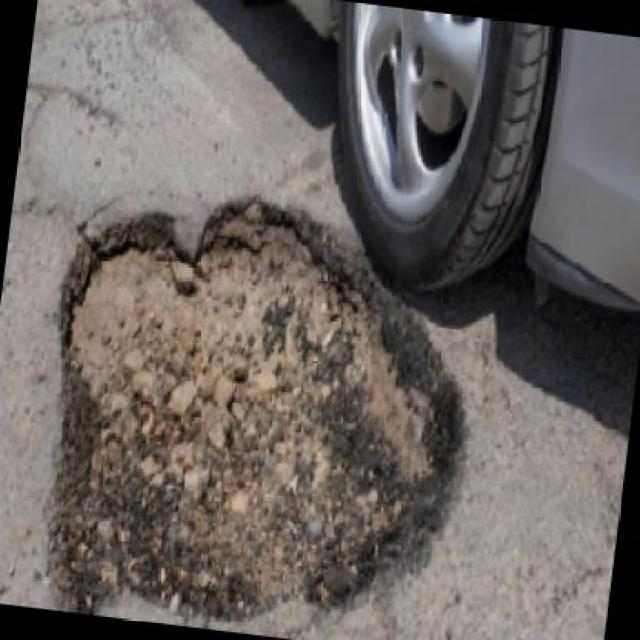pothole1: (19, 172, 492, 638)
